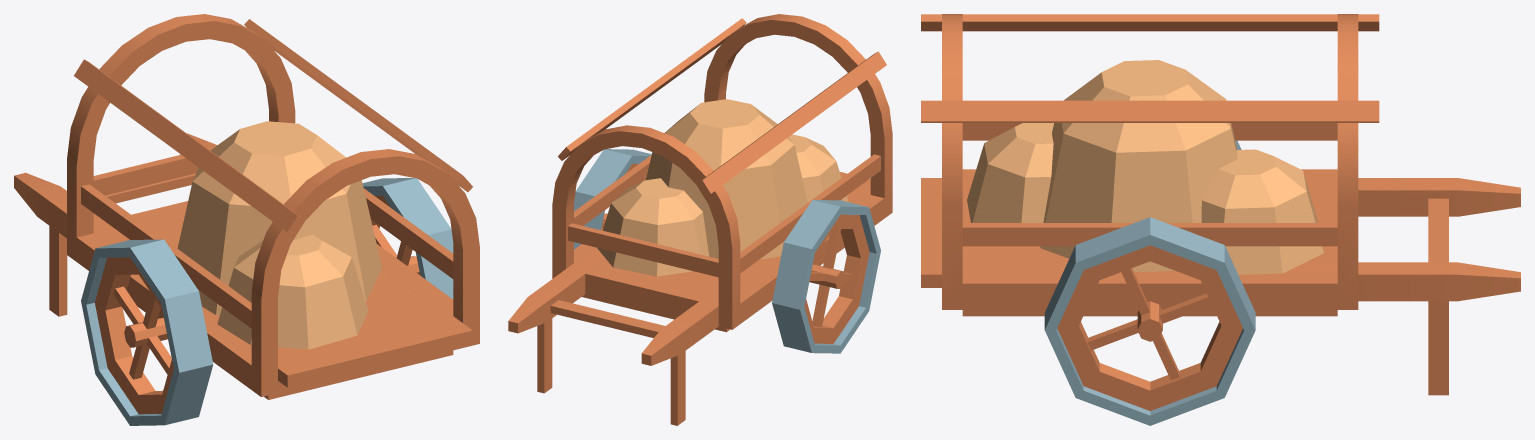
File: cartHigh.fbx
3 views of the same model, side by side, from view 1: azimuth 30°, elevation 25°; view 2: azimuth 150°, elevation 25°; view 3: azimuth 270°, elevation 25° (orthographic). The views are drawn at different scales.
Visible parts, largest first — view 1: cartHigh, hay, wheel (×2); view 2: cartHigh, hay, wheel (×2); view 3: cartHigh, hay, wheel.
Boxes of the visible parts, left/top/right/bottom form: cartHigh: left=14, top=14, right=479, bottom=399; hay: left=177, top=121, right=381, bottom=349; wheel (×2): left=81, top=178, right=453, bottom=425; cartHigh: left=508, top=14, right=892, bottom=425; hay: left=597, top=99, right=848, bottom=276; wheel (×2): left=574, top=149, right=880, bottom=353; cartHigh: left=921, top=14, right=1520, bottom=395; hay: left=967, top=60, right=1323, bottom=274; wheel: left=1044, top=217, right=1255, bottom=425.
Size of the model in its own units: 8.53 by 8.61 by 14.4.
